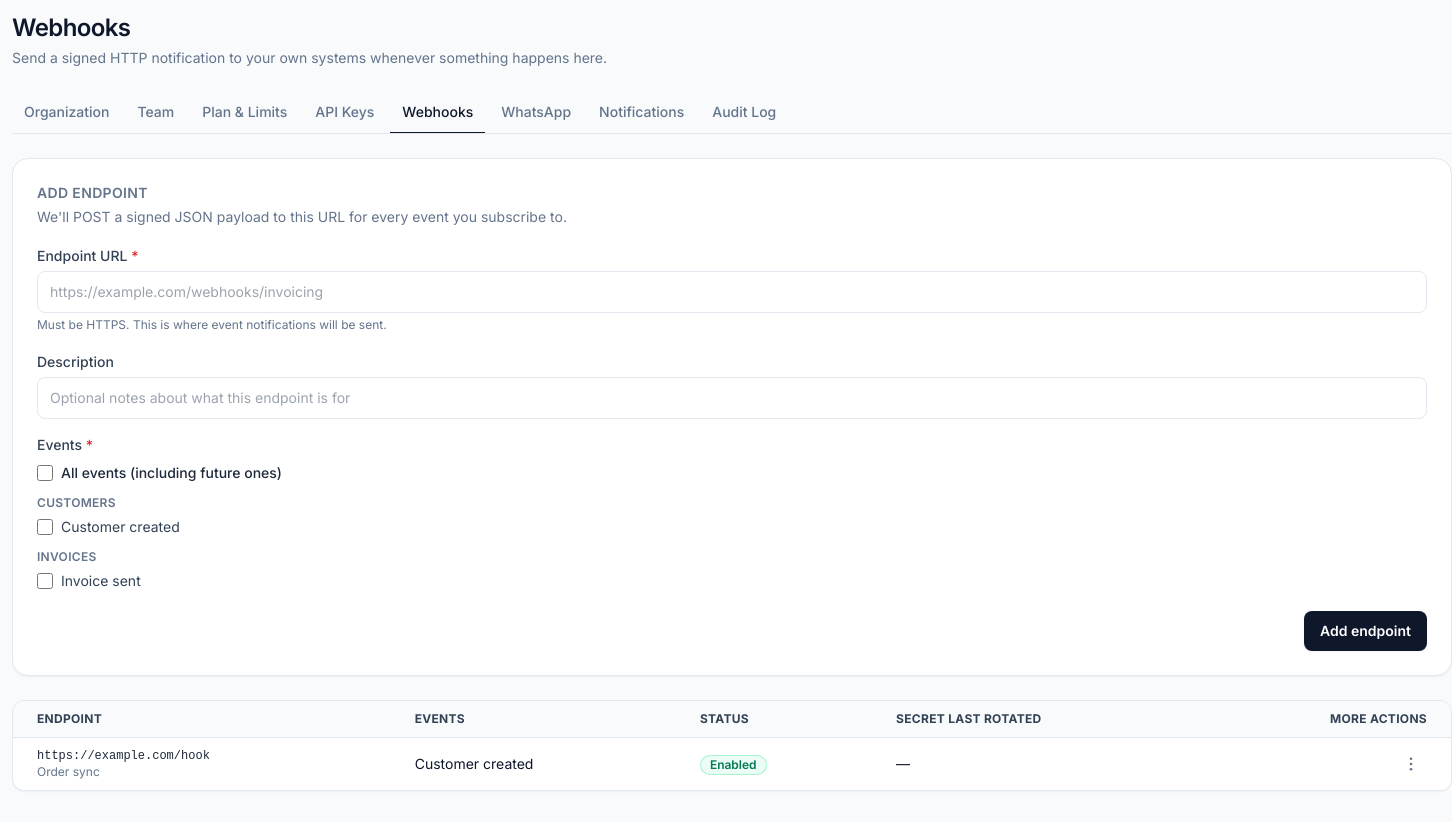
WebhooksPage › disables an endpoint
Expected: the text "https://example.com/hook" is shown, [37,749,210,763]
Click the button named "More actions": [1411, 764] box [1395,748,1427,780]
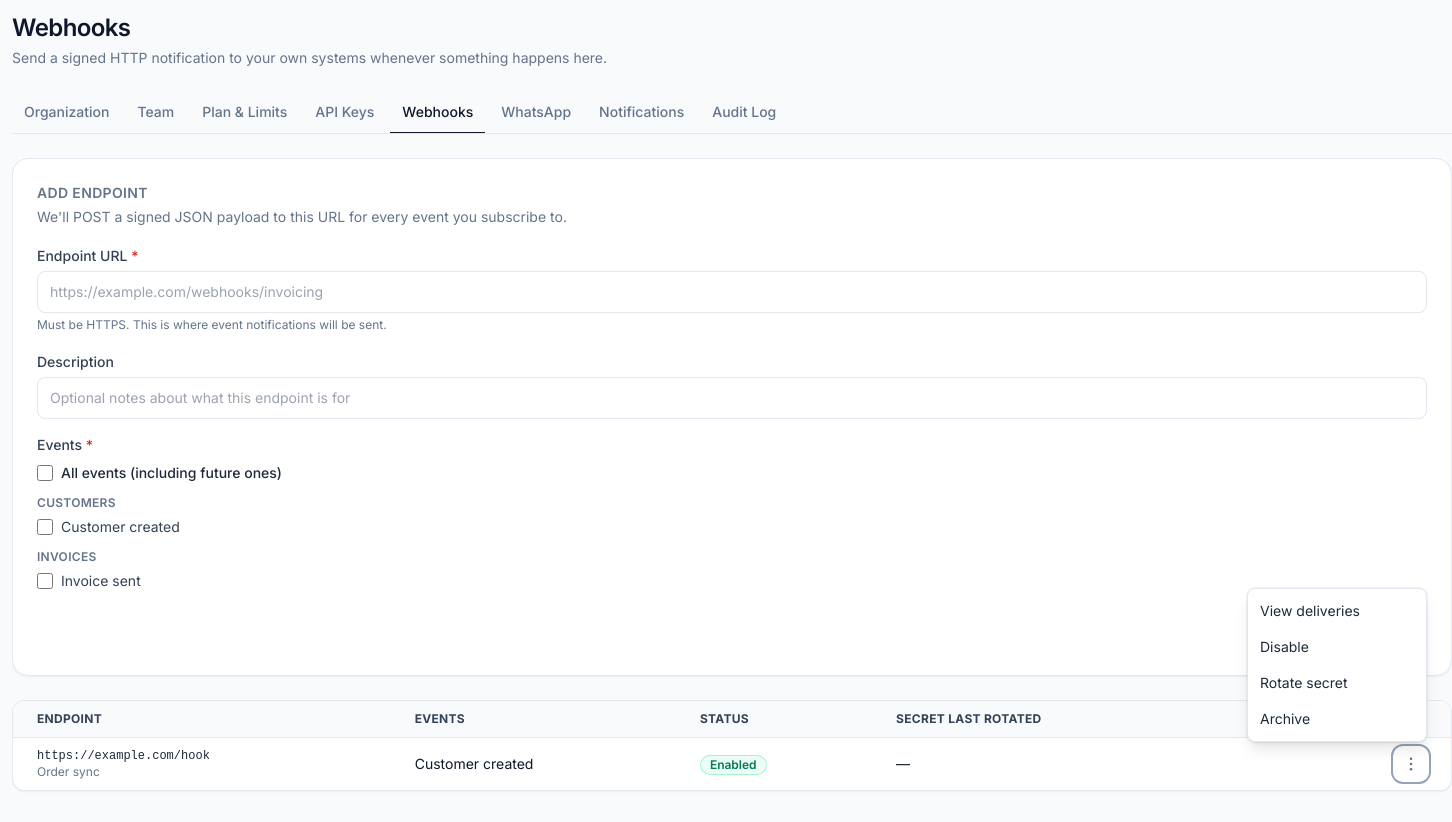
Click the menu item "Disable": [1337, 647] box [1248,629,1426,665]
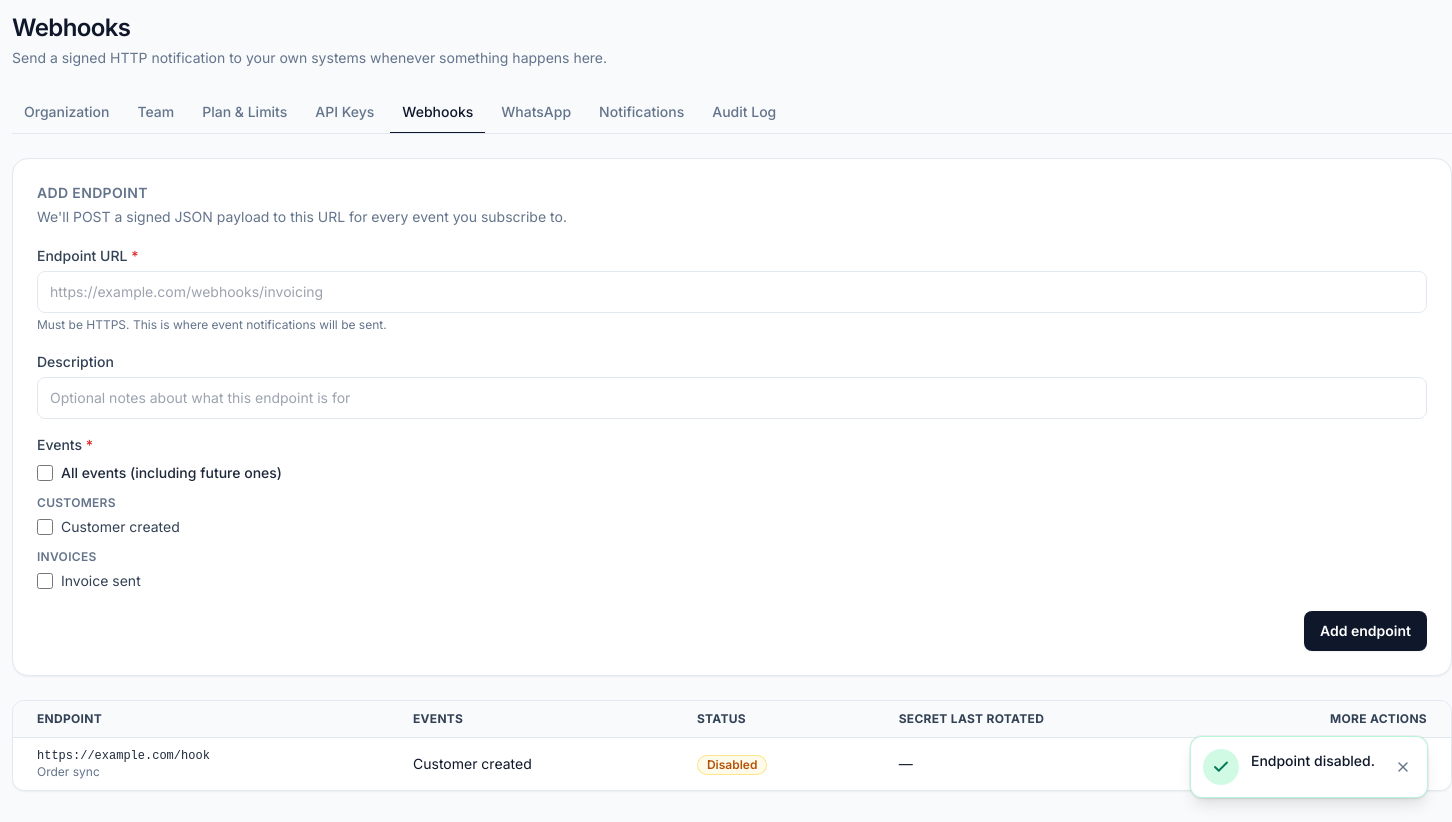
Expected: the text "Disabled" is shown, [697,754,767,774]
